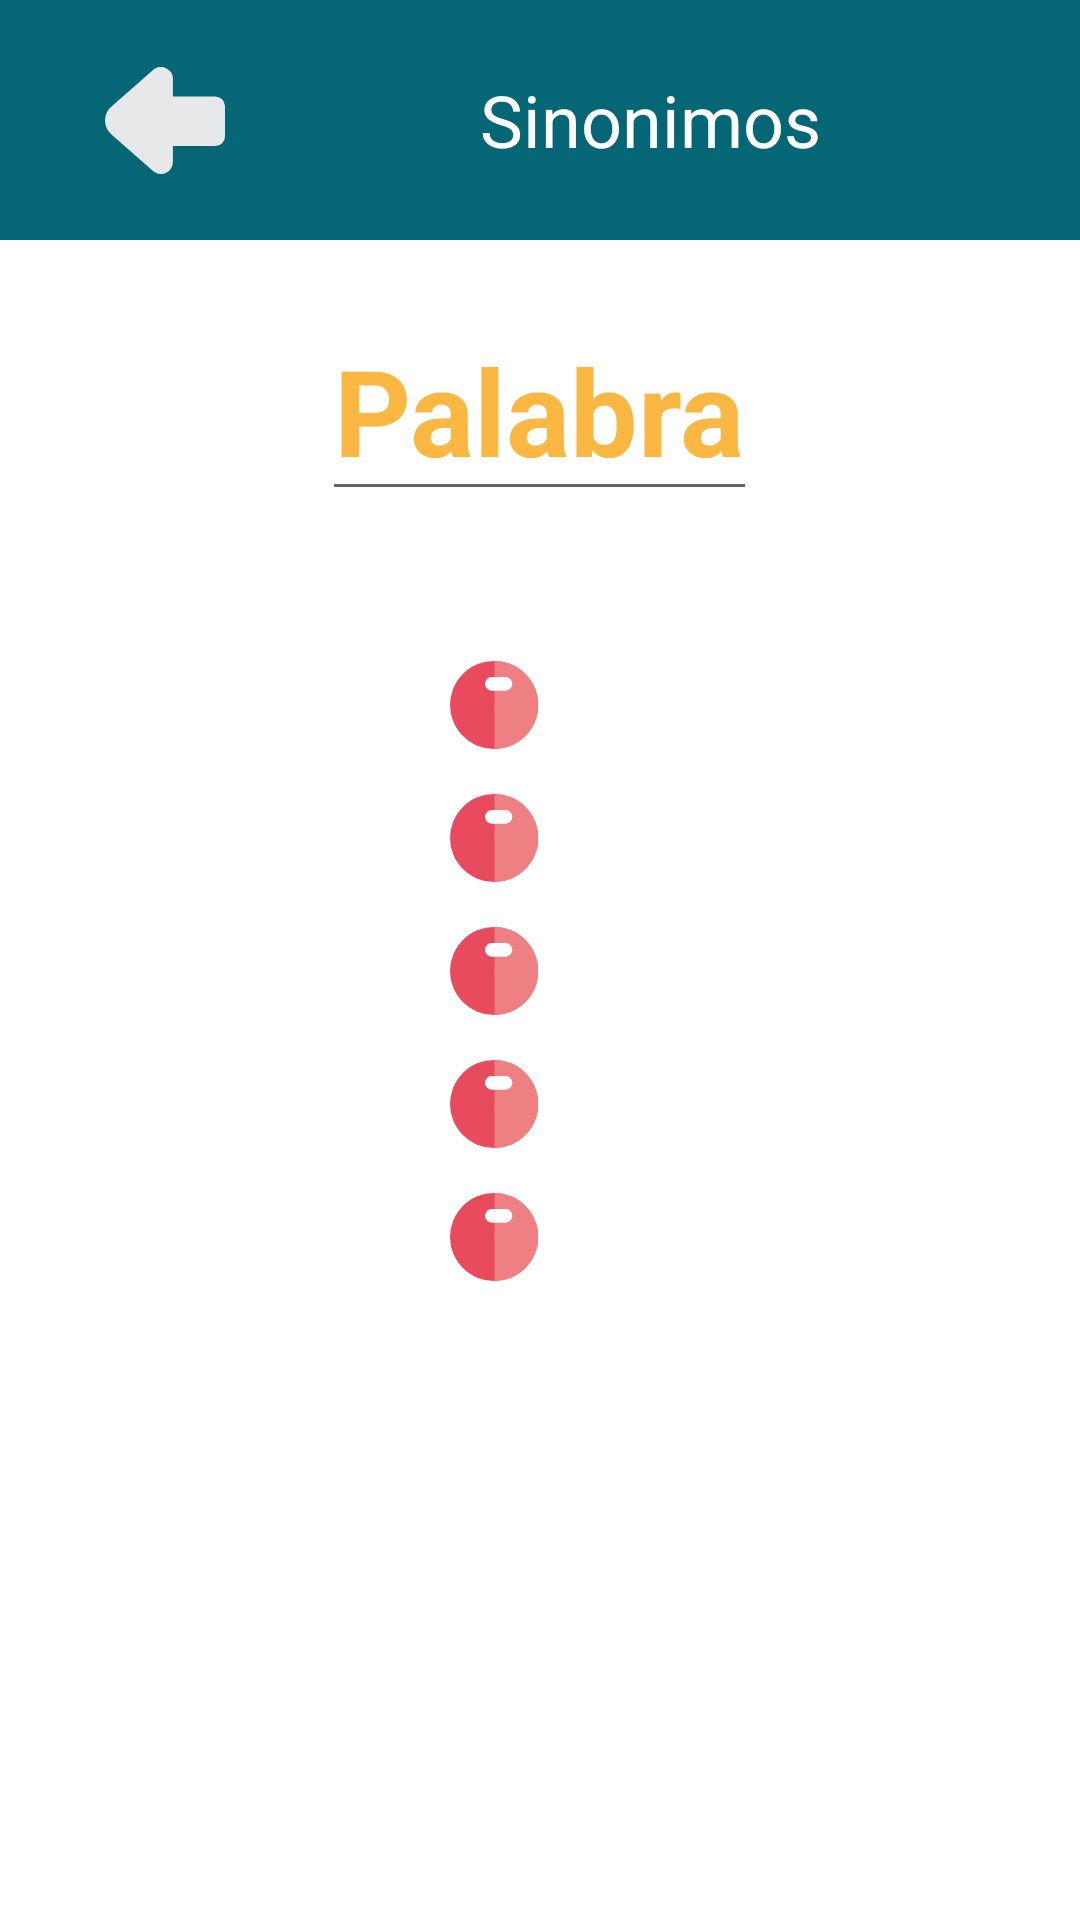

Named icons in this screenshot (1080px x 1920px) and their bounding boxes, (x1, y1, x2, y2):
circulo rojo: (450, 661, 538, 749), (450, 794, 538, 882), (450, 927, 538, 1015), (450, 1060, 538, 1148), (450, 1193, 538, 1281)
flechaatras: (105, 67, 225, 174)
